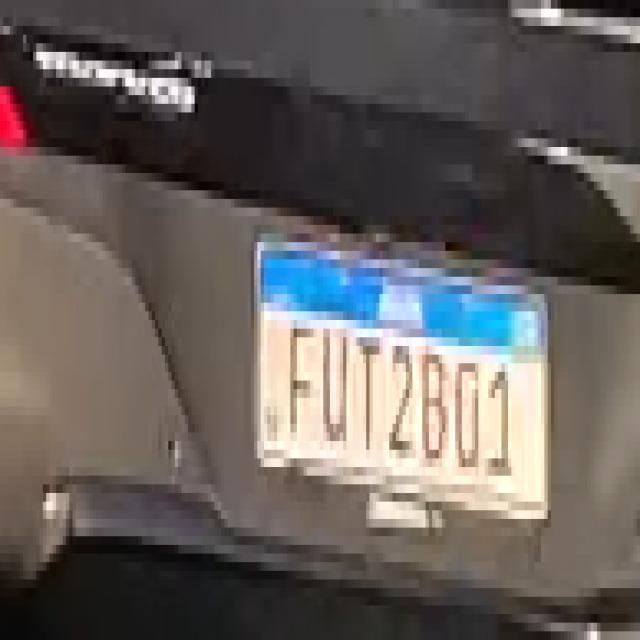Placa_mercosul_carro: (253, 230, 550, 521)
